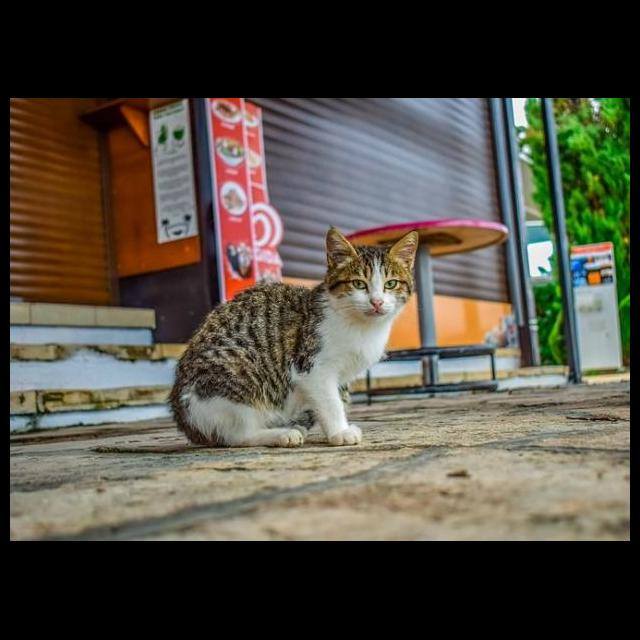animals: (168, 225, 419, 450)
